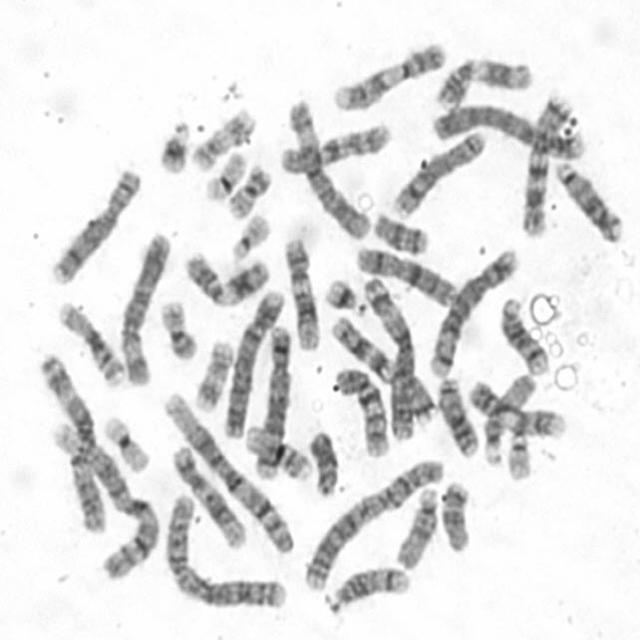A1: (158, 384, 297, 556), (45, 414, 161, 581)
A2: (297, 451, 447, 594), (158, 486, 291, 611)
A3: (32, 344, 110, 536), (358, 267, 421, 443)
B4: (217, 280, 287, 441), (425, 95, 587, 161)
B5: (423, 238, 521, 379), (245, 315, 294, 481)
C10: (272, 114, 393, 176), (329, 359, 392, 459)
C11: (429, 48, 534, 108), (179, 243, 271, 309)
C12: (166, 436, 249, 550), (278, 229, 322, 352)
C6: (281, 90, 372, 241), (112, 223, 174, 388)
C7: (324, 308, 438, 427), (516, 87, 576, 238)
C8: (43, 160, 143, 286), (385, 122, 488, 218)
C9: (326, 34, 449, 112), (462, 372, 567, 440)
D13: (547, 152, 625, 244), (430, 368, 480, 458)
D14: (319, 559, 413, 615), (494, 289, 552, 376)
D15: (478, 366, 540, 466), (388, 480, 441, 571)
E16: (51, 293, 128, 388), (238, 416, 314, 484)
E17: (185, 99, 258, 172), (188, 332, 236, 413)
E18: (367, 203, 431, 256), (434, 472, 474, 554)
F19: (96, 406, 152, 474), (198, 144, 248, 202)
F20: (221, 156, 273, 221), (153, 292, 200, 361)
G21: (152, 111, 192, 176), (318, 270, 364, 314)
G22: (223, 205, 272, 261), (500, 426, 534, 482)
X: (350, 237, 459, 308)
Y: (303, 421, 341, 498)
